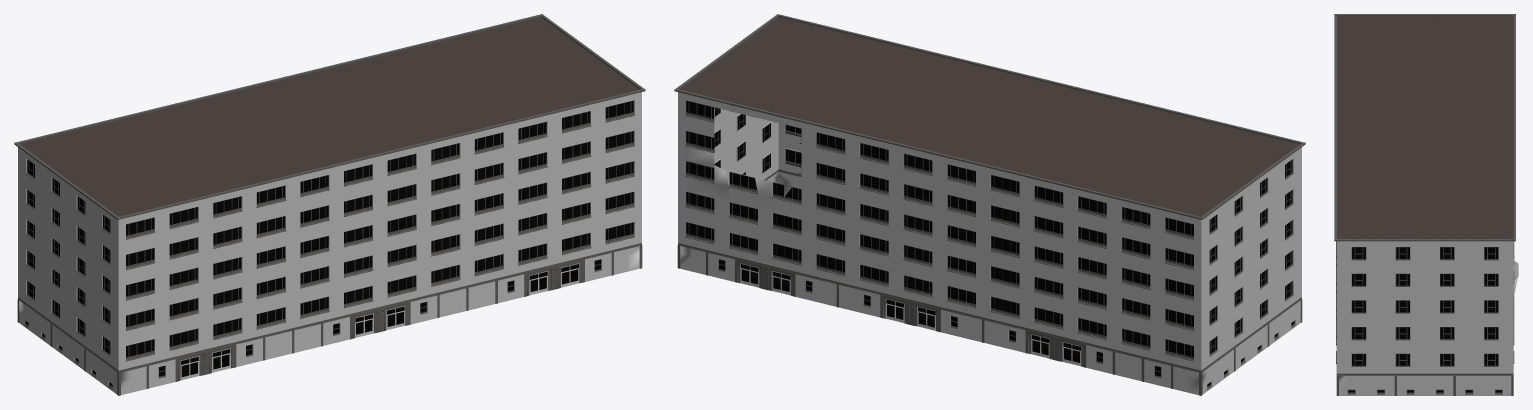
Rendered from building8mod2.fbx.
3 renders of one model, left to right at view 1: azimuth 30°, elevation 25°; view 2: azimuth 150°, elevation 25°; view 3: azimuth 270°, elevation 25°, orthographic. The views are drawn at different scales.
Parts seen in each view (by area): view 1: building_9_middle.001, building_9_roof.001, building_9_bottom.001; view 2: building_9_middle.001, building_9_roof.001, building_9_bottom.001; view 3: building_9_roof.001, building_9_middle.001, building_9_bottom.001.
Boxes of the visible parts, x1,y1,x2,y2 form: building_9_middle.001: [18, 92, 641, 370]; building_9_roof.001: [14, 14, 645, 219]; building_9_bottom.001: [17, 243, 642, 395]; building_9_middle.001: [678, 92, 1301, 370]; building_9_roof.001: [674, 14, 1305, 219]; building_9_bottom.001: [677, 169, 1302, 395]; building_9_roof.001: [1334, 14, 1515, 241]; building_9_middle.001: [1336, 241, 1518, 373]; building_9_bottom.001: [1336, 345, 1513, 395].
Size of the model in its own units: 10900 by 3529 by 3753.
